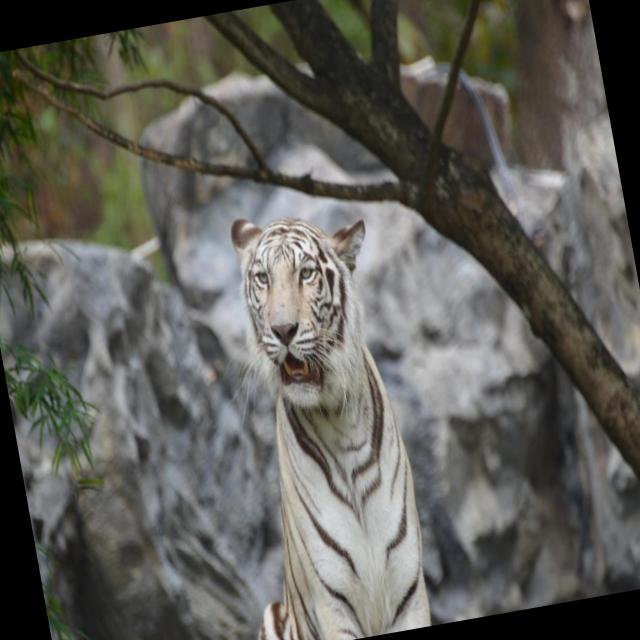tiger: (161, 149, 524, 640)
